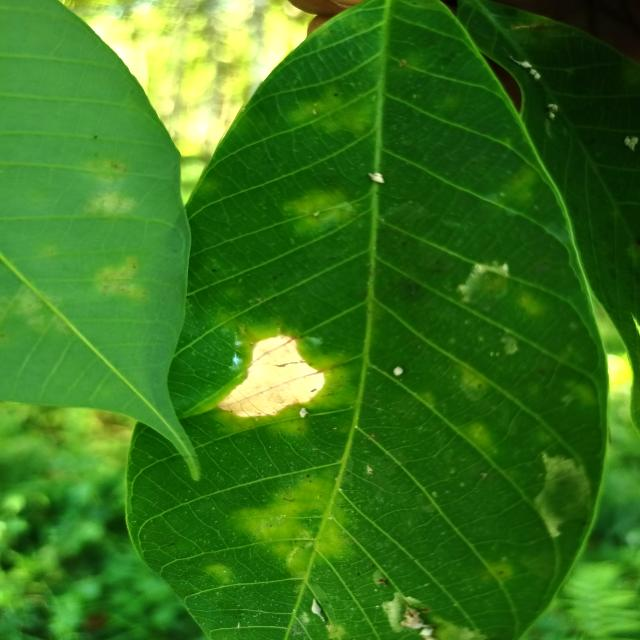Leaf-Blight: (217, 335, 326, 417)
